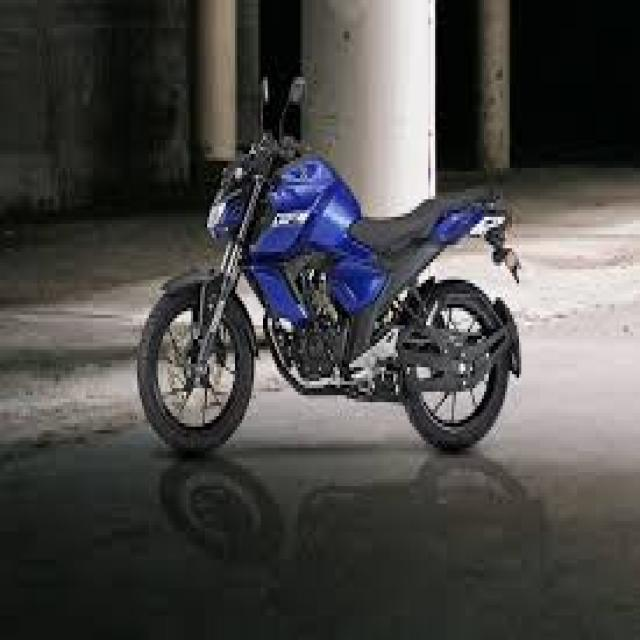Bike: (136, 77, 524, 458)
